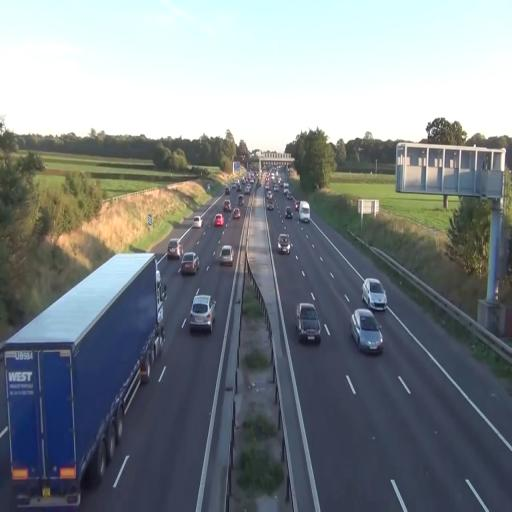vehicle: (0, 249, 159, 505), (350, 308, 384, 355), (187, 294, 215, 334), (296, 302, 321, 345), (362, 278, 387, 310), (180, 252, 200, 276), (218, 244, 234, 266), (277, 232, 291, 254), (167, 240, 180, 260), (298, 201, 310, 222), (214, 214, 225, 229), (232, 206, 242, 220)
